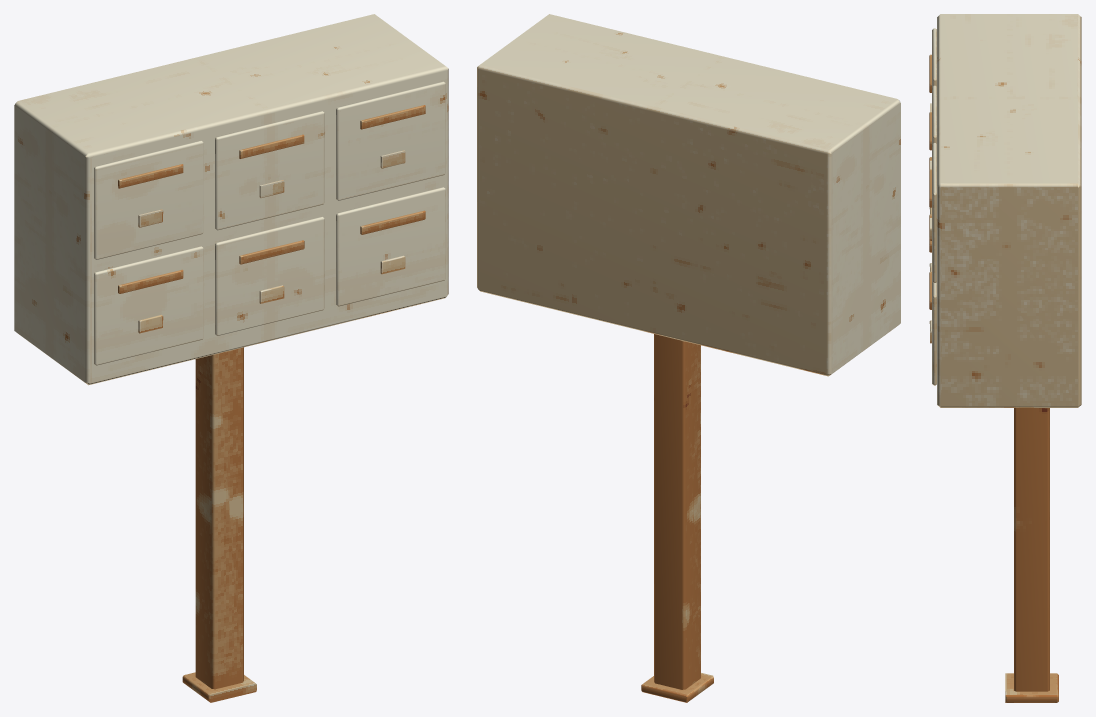
Rendered from mailbox_bank.glb.
3 renders of one model, left to right at view 1: azimuth 30°, elevation 25°; view 2: azimuth 150°, elevation 25°; view 3: azimuth 270°, elevation 25°, orthographic. The views are drawn at different scales.
Parts seen in each view (by area): view 1: mesh; view 2: mesh; view 3: mesh.
Part boxes in pixels (box(x1,y1,x2,y2)): mesh: box(14, 14, 448, 702); mesh: box(477, 14, 900, 702); mesh: box(929, 14, 1081, 702).
Size of the model in its own units: 0.9 by 1.45 by 0.337.
1 material, 1 textured.
